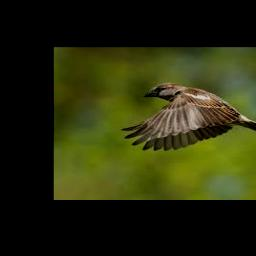Sparrow: (121, 83, 256, 150)
